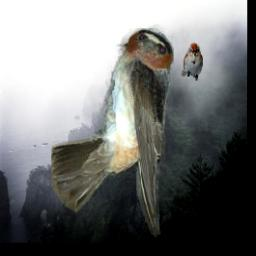Sparrow: (180, 42, 203, 81)
Swallow: (52, 28, 175, 238)
